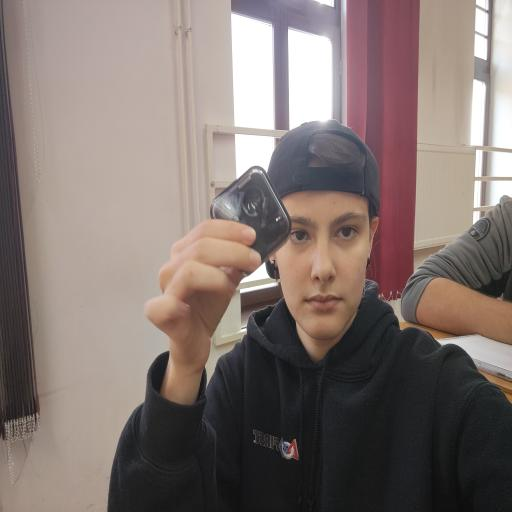CASTI: (208, 159, 292, 265)
